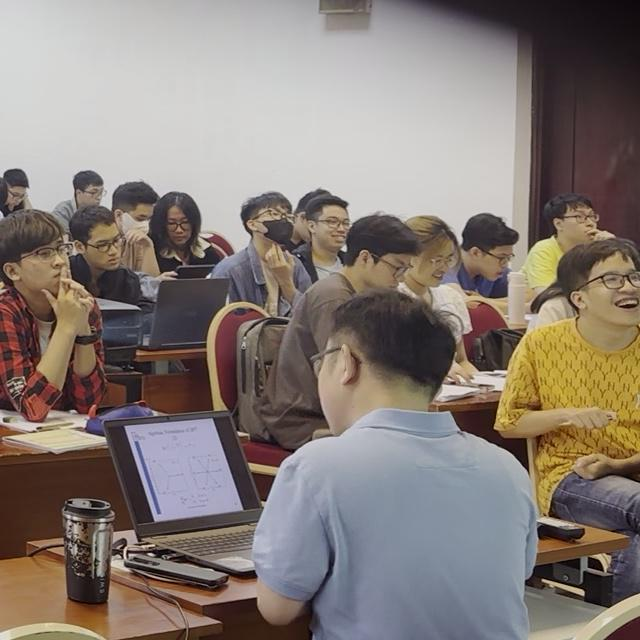Looking away: (421, 241, 459, 289), (88, 223, 125, 271), (368, 251, 412, 290), (166, 202, 194, 247), (479, 245, 513, 281), (125, 200, 155, 240), (80, 182, 105, 210), (8, 182, 29, 210)
Looking forward: (588, 255, 640, 323), (21, 236, 73, 296), (562, 201, 603, 245), (258, 202, 295, 245), (318, 204, 353, 247)
